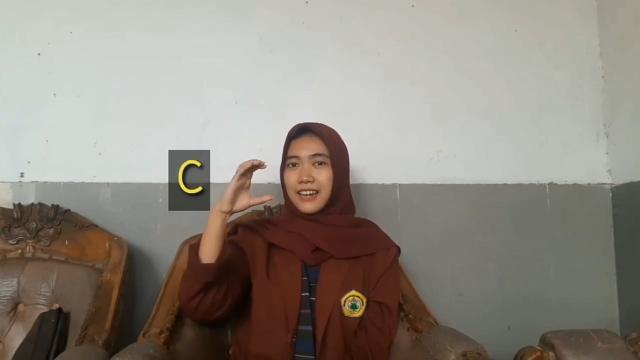C: (220, 158, 274, 214)
